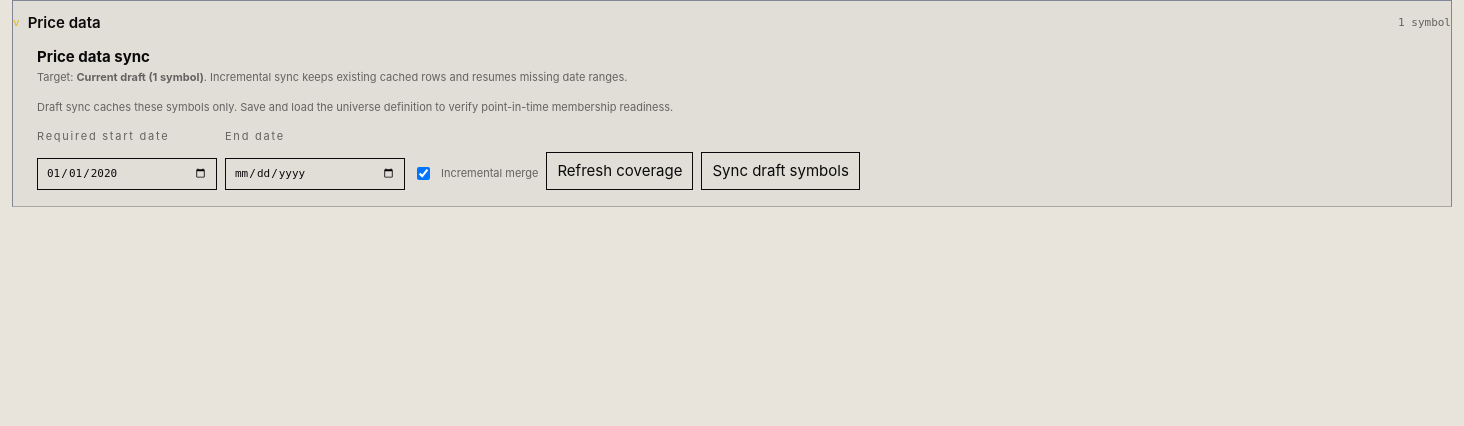
Test: UniverseDataSync › labels a terminal batch with partial failures instead of claiming success
This screenshot has width=1464, height=426.
Step 1. Click the button with test id "sync-universe" → (781, 171), box [702,152,860,190]
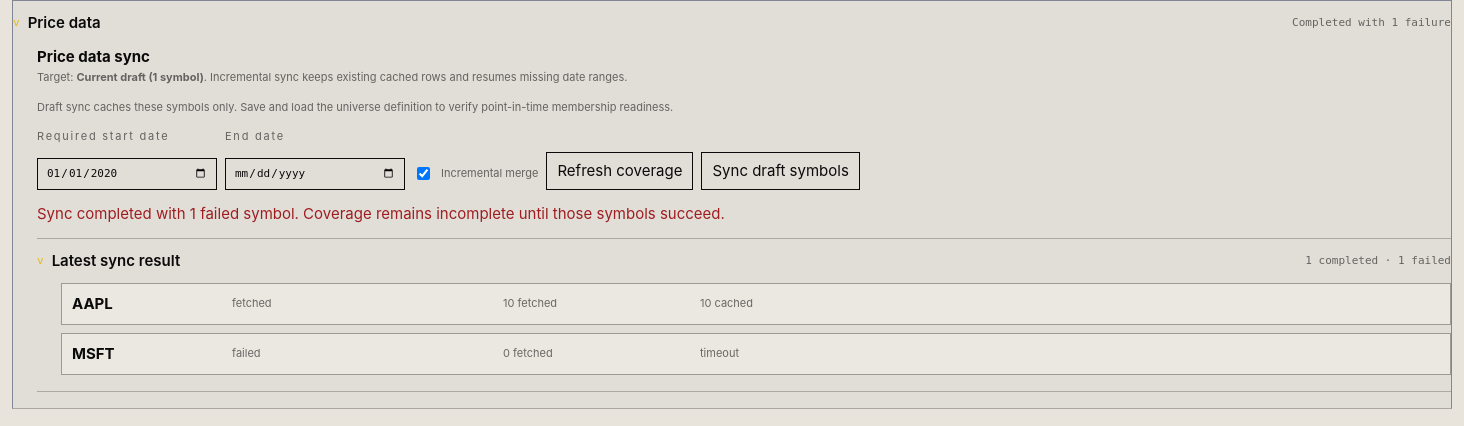
Expected: the text "Sync completed with 1 failed symbol" is shown, [37,204,725,223]
Expected: the text "Completed with 1 failure" is shown, [1292,14,1451,32]
